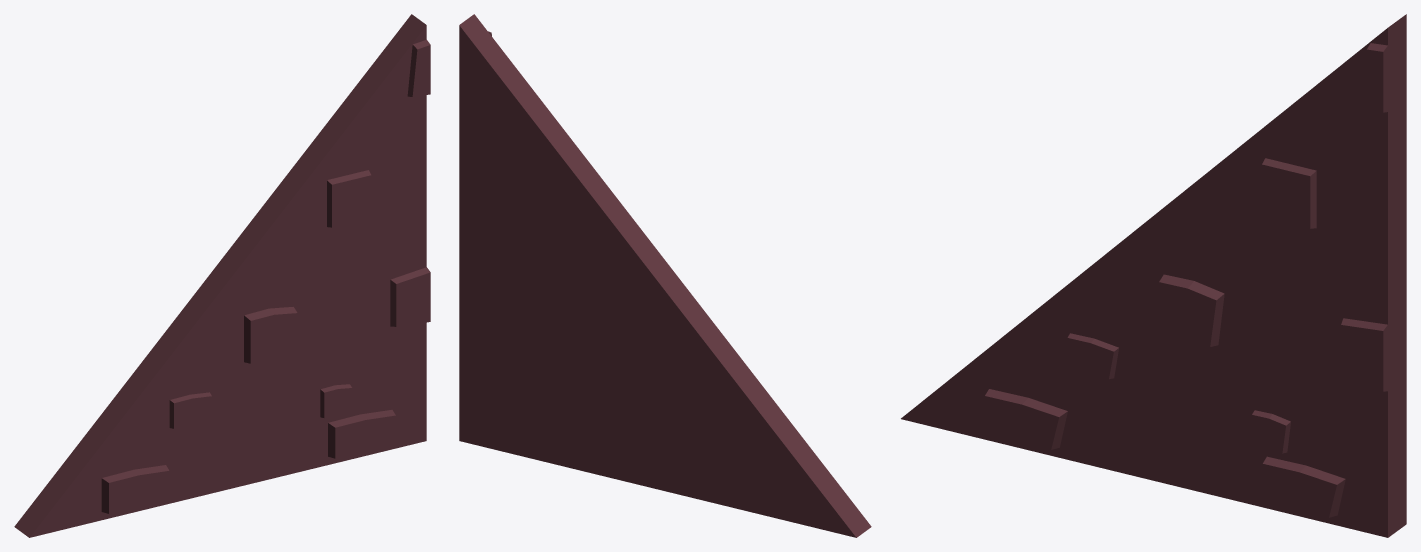
File: SM_Stone_Wall_Verical_L_3x3_Rim_Empire.fbx
3 views of the same model, side by side, from view 1: azimuth 30°, elevation 25°; view 2: azimuth 150°, elevation 25°; view 3: azimuth 330°, elevation 25° (orthographic). The views are drawn at different scales.
Visible parts, largest first — view 1: SM_Stone_Wall_Verical_L_3x3_Rim_Empire; view 2: SM_Stone_Wall_Verical_L_3x3_Rim_Empire; view 3: SM_Stone_Wall_Verical_L_3x3_Rim_Empire.
Part boxes in pixels (left/top/right/bottom): SM_Stone_Wall_Verical_L_3x3_Rim_Empire: left=14, top=14, right=430, bottom=537; SM_Stone_Wall_Verical_L_3x3_Rim_Empire: left=459, top=14, right=871, bottom=537; SM_Stone_Wall_Verical_L_3x3_Rim_Empire: left=901, top=14, right=1406, bottom=537.
Size of the model in its own units: 3 by 3 by 0.2676.
